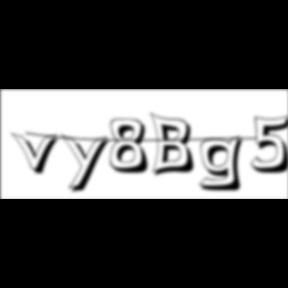8: (110, 117, 156, 176)
B: (151, 111, 201, 179)
g: (199, 134, 251, 194)
v: (11, 131, 65, 177)
y: (62, 132, 116, 196)
